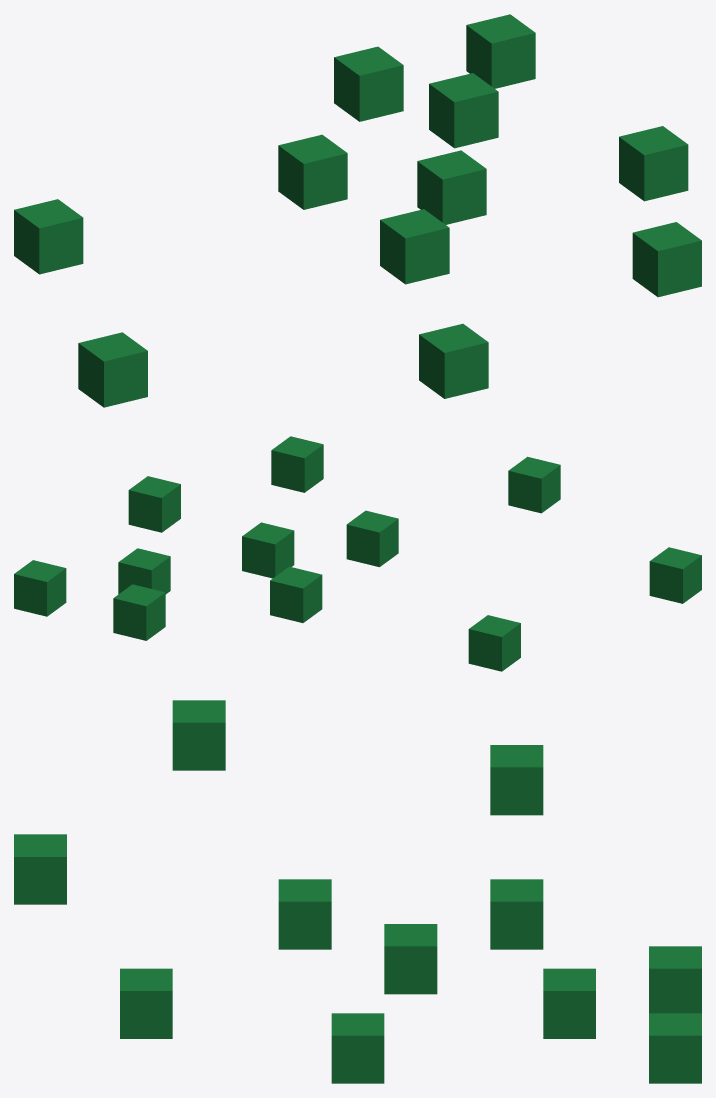
The model's file is Grass1.fbx.
3 views of the same model, one above another, from view 1: azimuth 30°, elevation 25°; view 2: azimuth 150°, elevation 25°; view 3: azimuth 270°, elevation 25° (orthographic). The views are drawn at different scales.
Visible parts, largest first — view 1: root; view 2: root; view 3: root.
Boxes of the visible parts, x1,y1,x2,y2 form: root: (14, 14, 701, 407); root: (14, 436, 701, 671); root: (14, 700, 701, 1083).
Size of the model in its own units: 0.512 by 0.0341 by 0.4437.
1 material, 1 textured.
